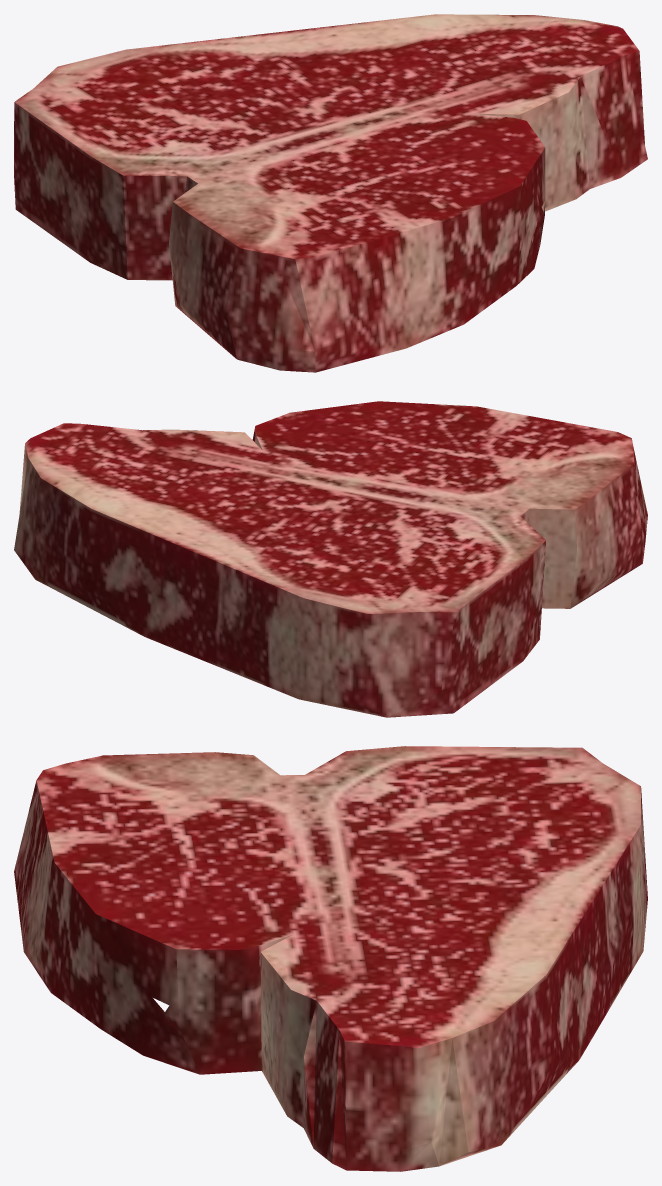
File: res.food_raw_2.ground.glb
3 views of the same model, one above another, from view 1: azimuth 30°, elevation 25°; view 2: azimuth 150°, elevation 25°; view 3: azimuth 270°, elevation 25° (orthographic). The views are drawn at different scales.
Parts seen in each view (by area): view 1: body; view 2: body; view 3: body.
Boxes of the visible parts, <box> form: body: <box>14,14,647,372</box>; body: <box>14,401,647,717</box>; body: <box>14,746,647,1171</box>.
Size of the model in its own units: 0.4167 by 0.0846 by 0.3735.
1 material, 1 textured.
